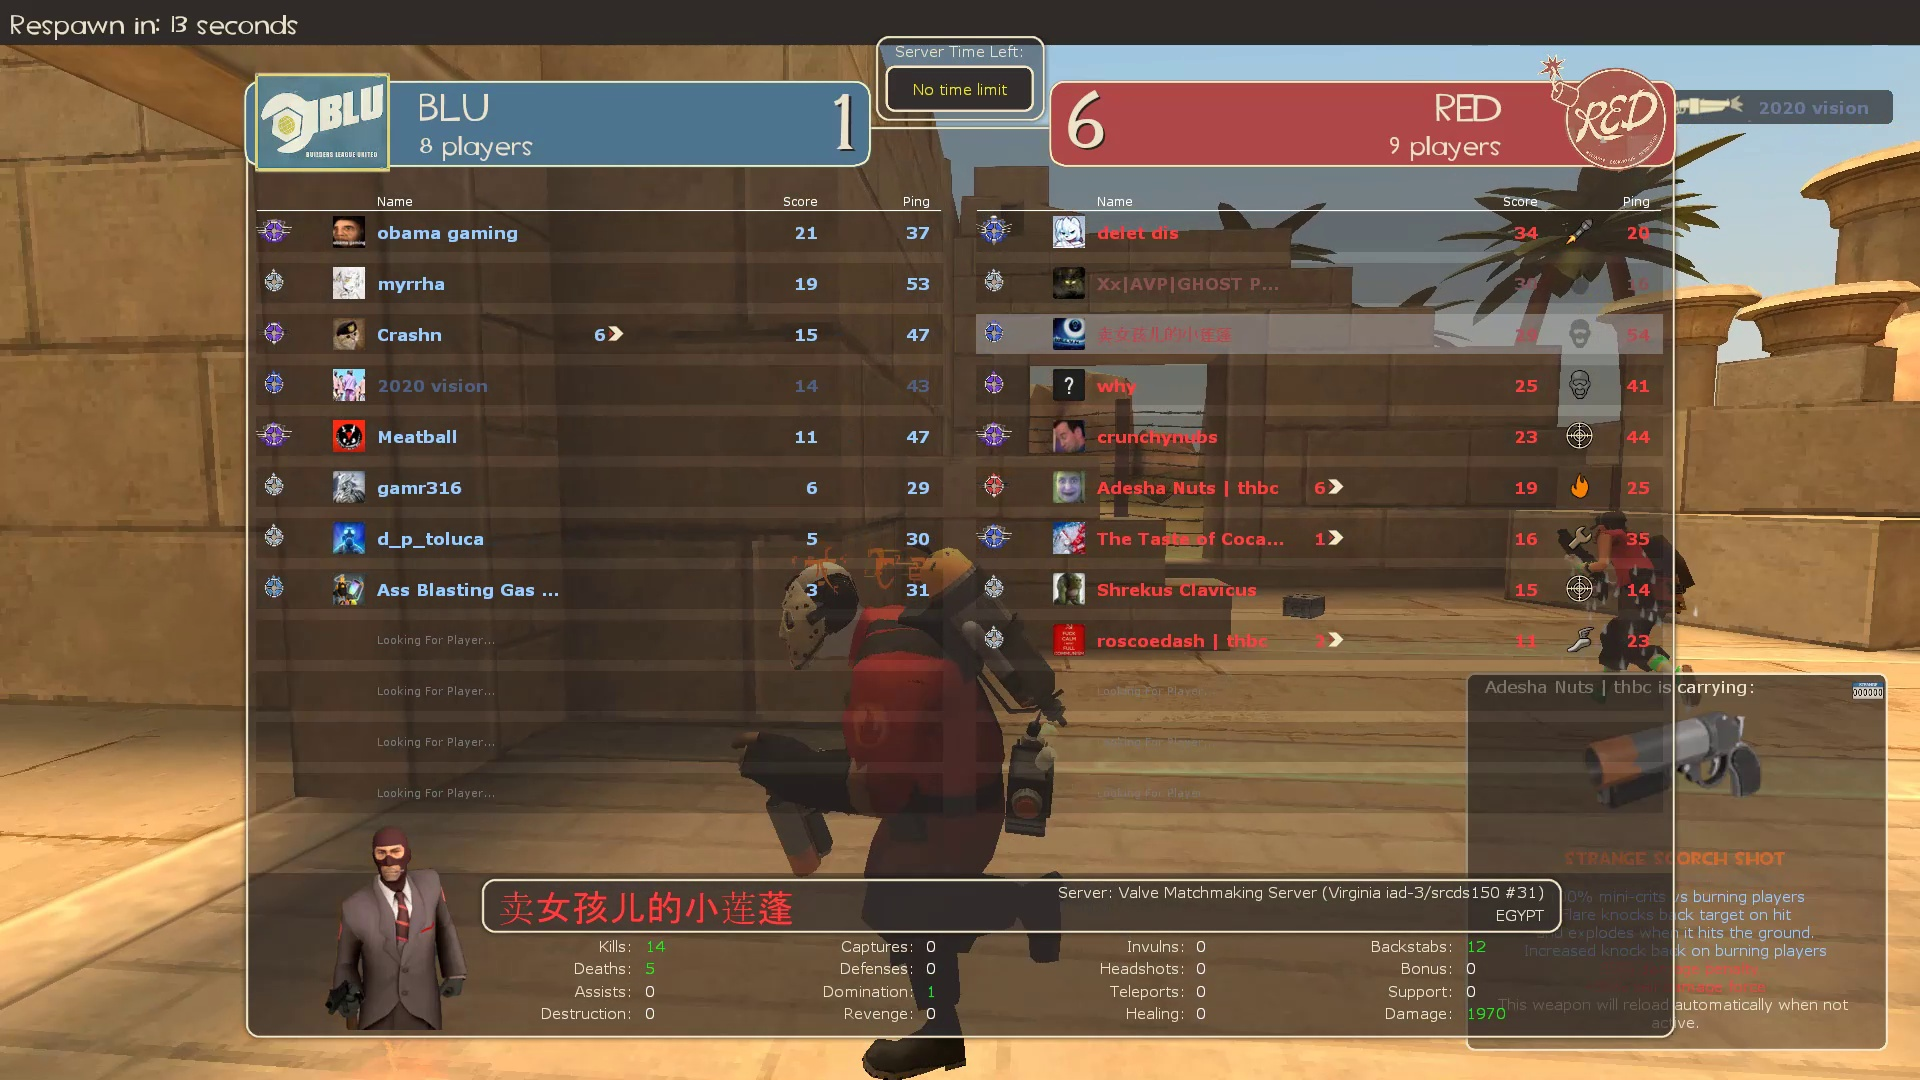red_pyro: (709, 541, 1081, 1080)
red_scout: (1545, 508, 1721, 717)
